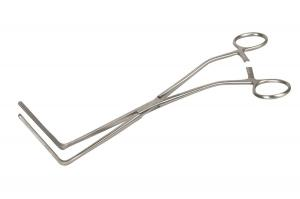Right Angle Colon Clamp: (11, 26, 293, 168)
